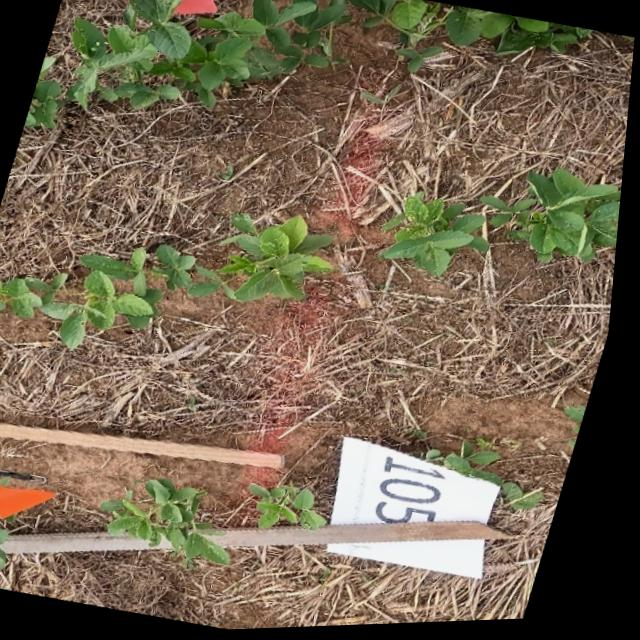soy_plant: (68, 0, 591, 109), (0, 215, 336, 349), (486, 173, 625, 265), (110, 479, 238, 565), (428, 442, 551, 513), (386, 196, 492, 278), (257, 485, 335, 533), (26, 57, 63, 125), (0, 514, 17, 571), (572, 410, 594, 453)
